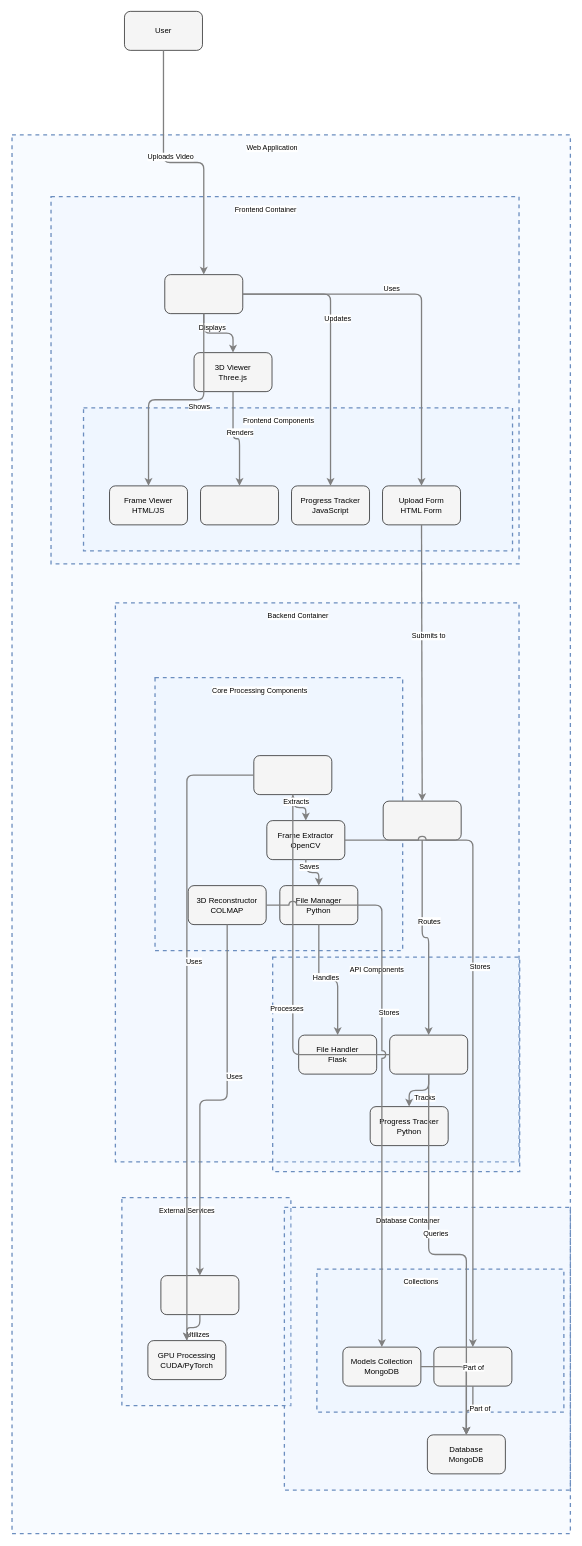
Some shapes in this 582 by 1546 pixel diagram are drawn without their labels. The box of each missing label's shape, as (x1, y1, x2, y2) in pixels:
API Routes Flask: (389, 1034, 468, 1074)
COLMAP Service CUDA-enabled: (160, 1275, 239, 1315)
Frames Collection MongoDB: (433, 1346, 512, 1386)
Model Viewer Three.js/WebGL: (200, 485, 279, 525)
Video Processor OpenCV: (253, 755, 332, 795)
Web Interface HTML/CSS/JS: (164, 274, 243, 314)
Web Server Flask: (383, 800, 461, 840)
